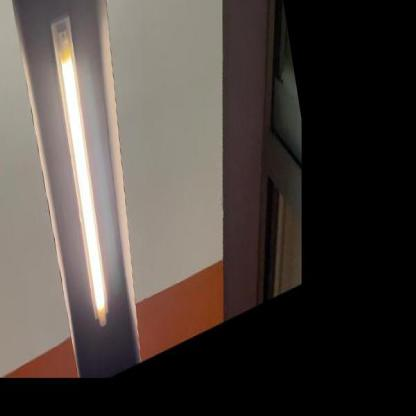light_on: (37, 3, 121, 342)
